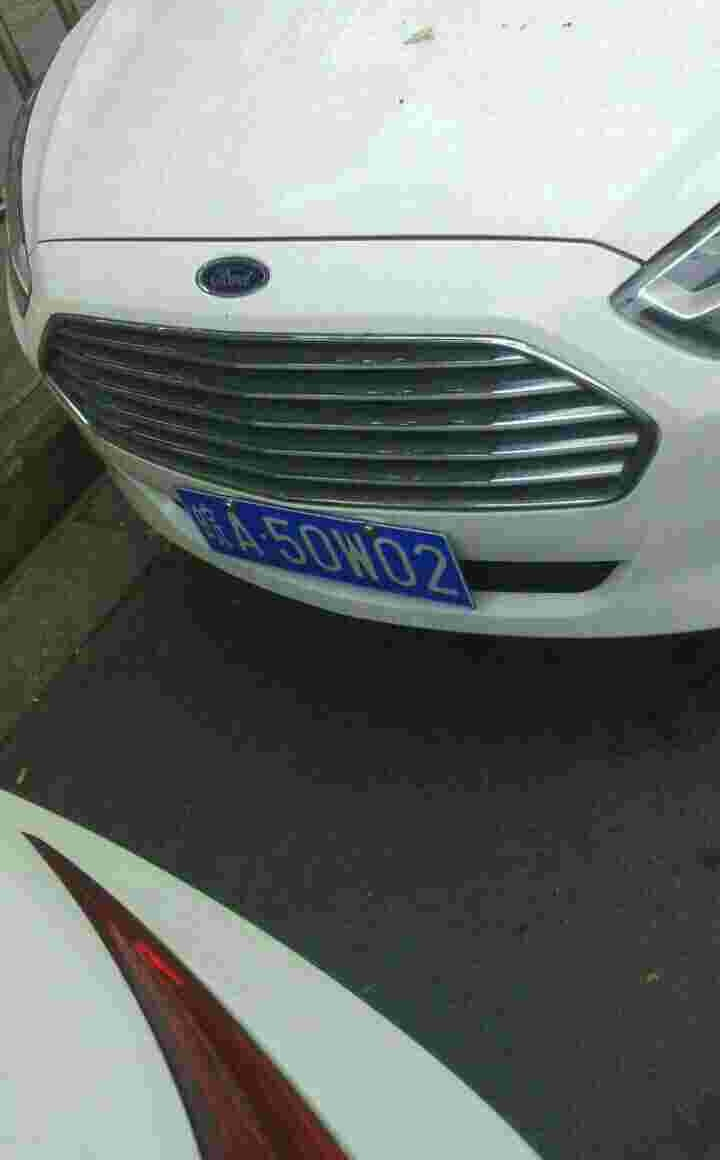license_plate: (192, 501, 466, 591)
